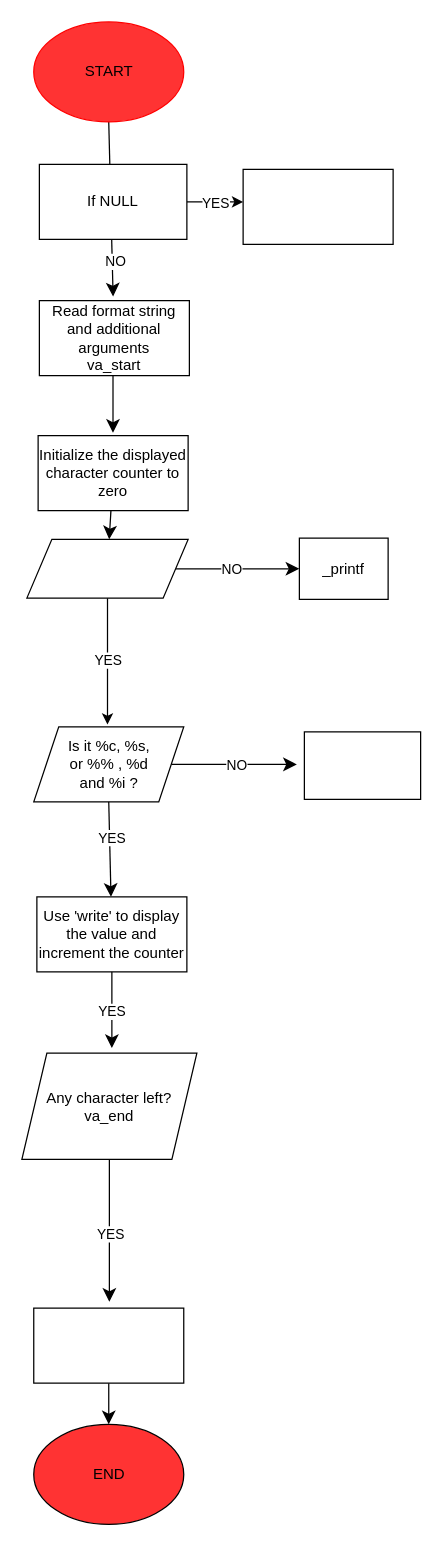
This 443x1546 diagram has some shape labels left out. The centre of each missing label's shape, as x and y in pixels:
Check the format % va_list: point (107, 568)
Handle an error or ignore it: point (362, 765)
Return (-1): point (317, 206)
Return the counter value: point (108, 1345)
